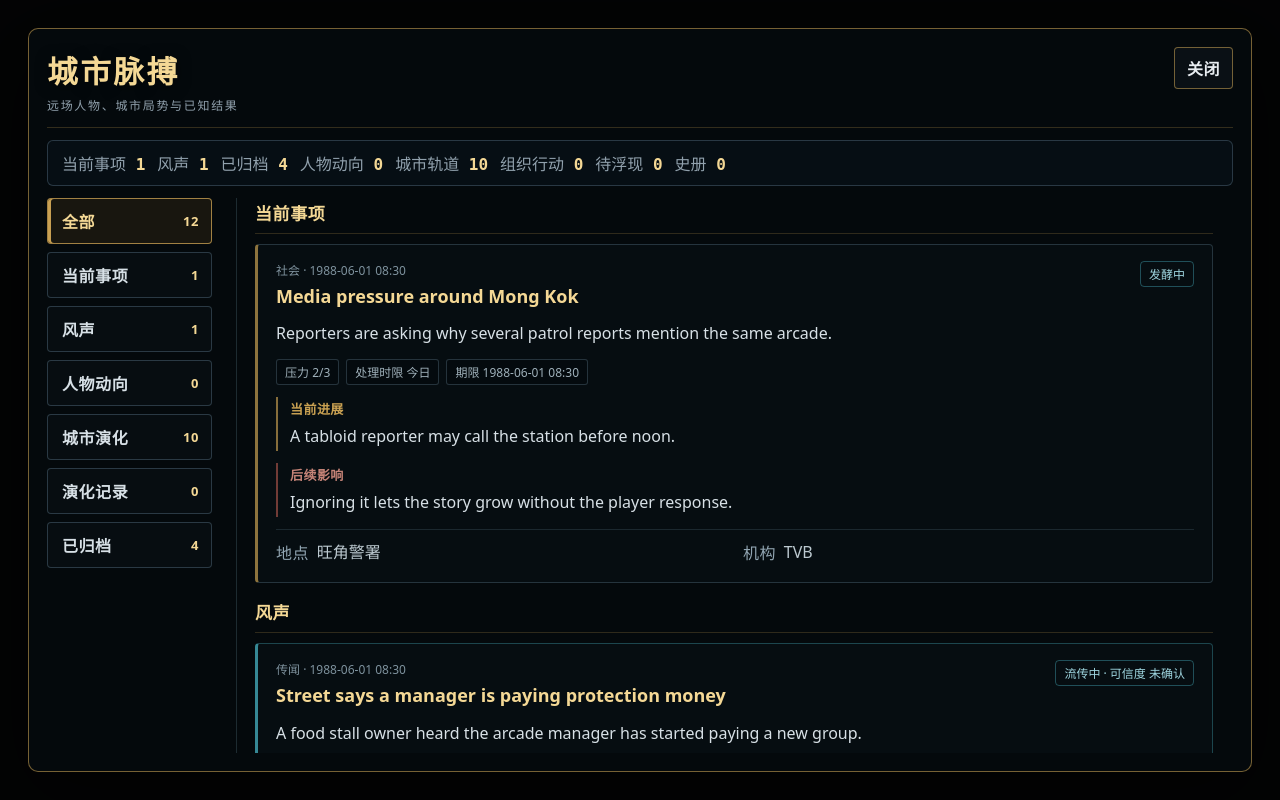
Scenario: DynamicMattersPanelModal › treats resolved matters and signals as archived entries
What coordinates should you click on to do the following:
click the button "已归档 4"
I would click on:
 (130, 545)
Its box is [47, 522, 212, 568].
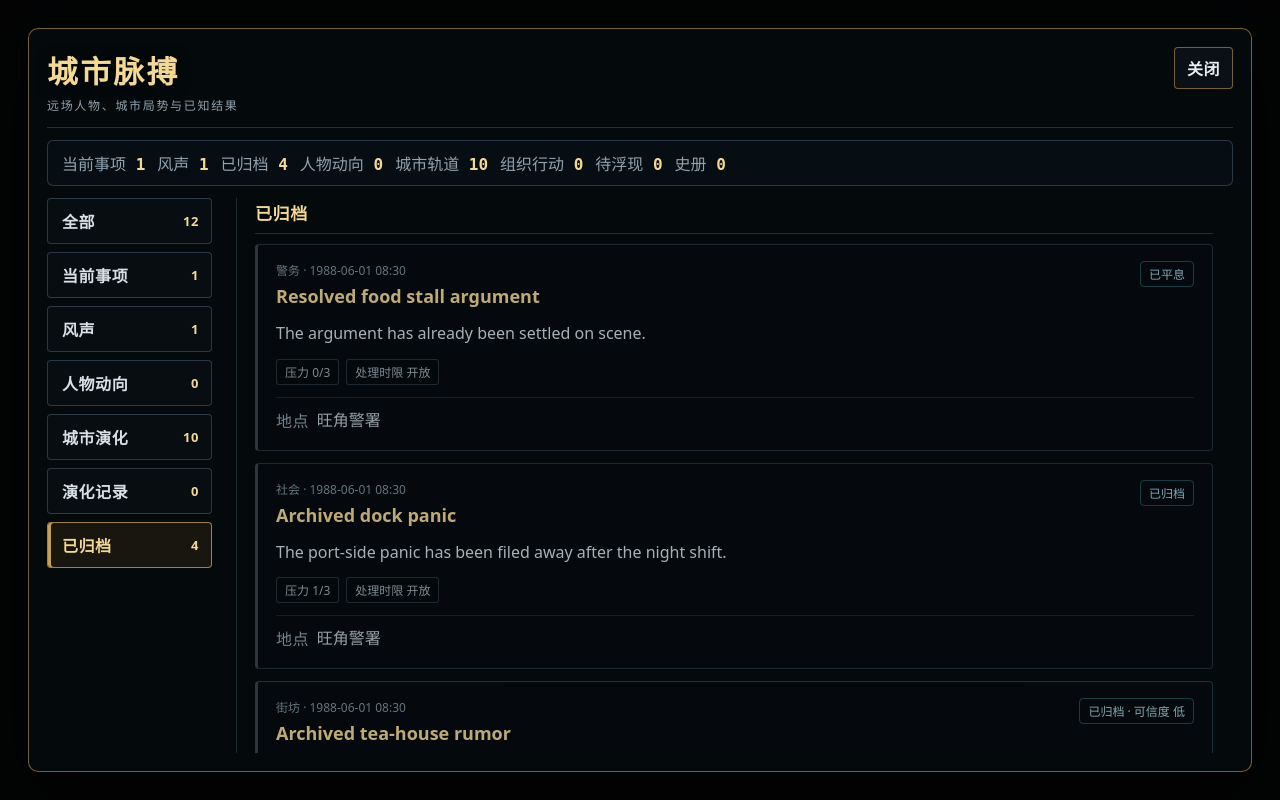
Expected: the dialog shows "Resolved food stall argument", [276, 284, 540, 308]
Expected: the dialog shows "已平息", [1149, 266, 1185, 283]
